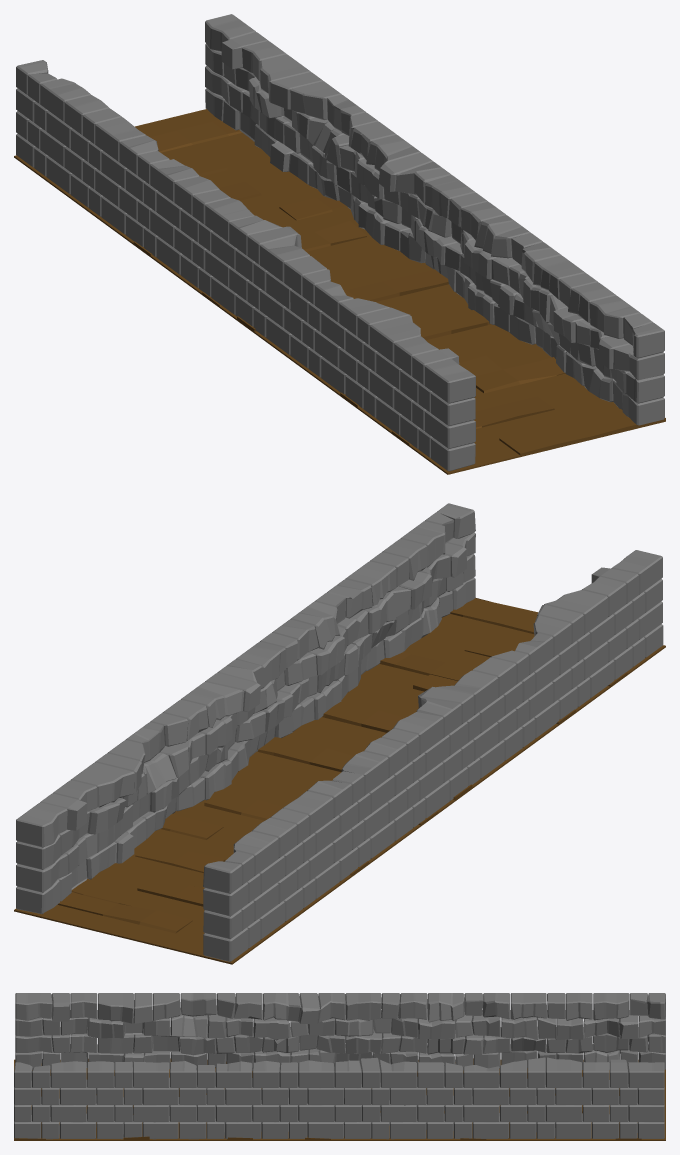
The model's file is mazeFixed.fbx.
3 renders of one model, top to bottom at view 1: azimuth 30°, elevation 25°; view 2: azimuth 150°, elevation 25°; view 3: azimuth 270°, elevation 25°, orthographic. The views are drawn at different scales.
Visible parts, largest first — view 1: WallLeft, WallRight, Floor; view 2: WallLeft, WallRight, Floor; view 3: WallRight, WallLeft, Floor.
Part boxes in pixels (<box>): WallLeft: <box>16,60,475,471</box>; WallRight: <box>205,14,664,425</box>; Floor: <box>14,109,665,474</box>; WallLeft: <box>203,550,663,961</box>; WallRight: <box>16,503,475,914</box>; Floor: <box>14,598,665,964</box>; WallRight: <box>14,1057,664,1139</box>; WallLeft: <box>15,993,665,1070</box>; Floor: <box>14,1058,665,1140</box>.
Bounding box in the file's own units: 1550 × 637 × 5334.
